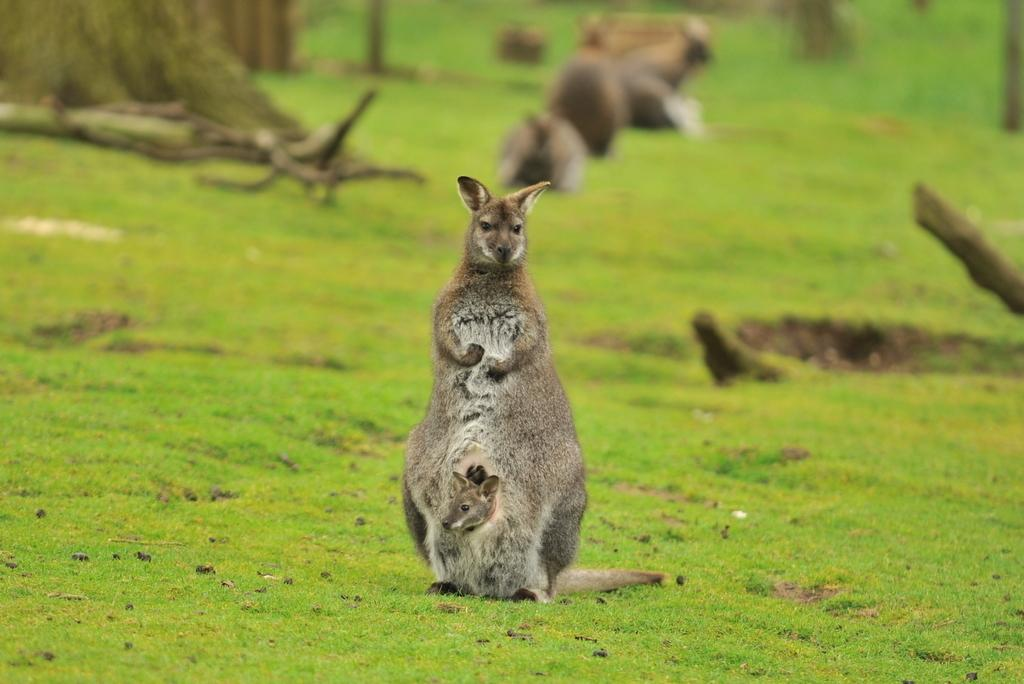kangaroo: (395, 172, 666, 603), (439, 474, 495, 532)
